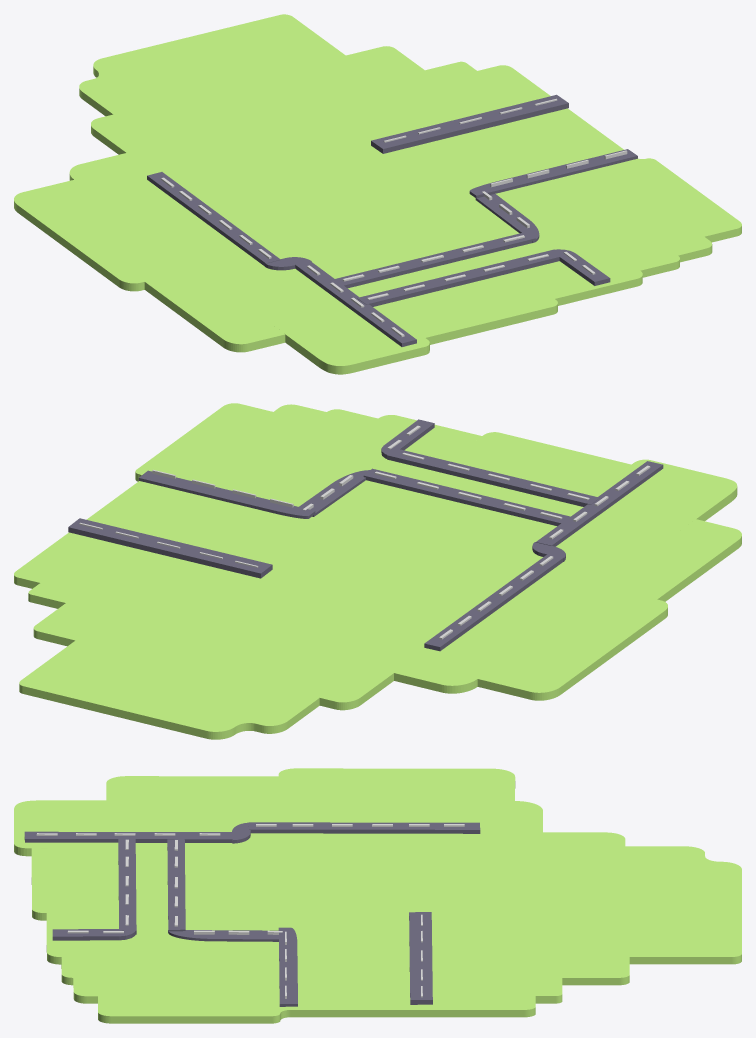
Rendered from scaledgroundroad.glb.
3 renders of one model, top to bottom at view 1: azimuth 30°, elevation 25°; view 2: azimuth 150°, elevation 25°; view 3: azimuth 270°, elevation 25°, orthographic. The views are drawn at different scales.
Visible parts, largest first — view 1: MainGround, ลูกบาศก์.006, ลูกบาศก์.013, ลูกบาศก์.012, ลูกบาศก์.003, ลูกบาศก์.001, ลูกบาศก์.011, ลูกบาศก์.007, ลูกบาศก์.014; view 2: MainGround, ลูกบาศก์.006, ลูกบาศก์.013, ลูกบาศก์.012, ลูกบาศก์.003, ลูกบาศก์.011, ลูกบาศก์.001, ลูกบาศก์.007, ลูกบาศก์.014; view 3: MainGround, ลูกบาศก์.003, ลูกบาศก์.006, ลูกบาศก์.001, ลูกบาศก์.013, ลูกบาศก์.012, ลูกบาศก์.011, ลูกบาศก์.007, ลูกบาศก์.014.
Boxes of the visible parts, <box> form: MainGround: <box>14,14,741,374</box>; ลูกบาศก์.006: <box>371,94,568,153</box>; ลูกบาศก์.013: <box>357,249,563,306</box>; ลูกบาศก์.012: <box>335,232,535,288</box>; ลูกบาศก์.003: <box>147,172,280,266</box>; ลูกบาศก์.001: <box>295,260,416,346</box>; ลูกบาศก์.011: <box>469,149,637,198</box>; ลูกบาศก์.007: <box>475,194,539,242</box>; ลูกบาศก์.014: <box>555,249,610,285</box>; MainGround: <box>14,403,741,739</box>; ลูกบาศก์.006: <box>68,518,272,578</box>; ลูกบาศก์.013: <box>387,448,599,506</box>; ลูกบาศก์.012: <box>363,468,570,526</box>; ลูกบาศก์.003: <box>424,553,564,651</box>; ลูกบาศก์.011: <box>138,470,315,518</box>; ลูกบาศก์.001: <box>536,461,663,546</box>; ลูกบาศก์.007: <box>299,470,369,516</box>; ลูกบาศก์.014: <box>381,419,434,458</box>; MainGround: <box>14,768,741,1023</box>; ลูกบาศก์.003: <box>248,822,480,833</box>; ลูกบาศก์.006: <box>409,912,432,1004</box>; ลูกบาศก์.001: <box>24,831,232,842</box>; ลูกบาศก์.013: <box>118,837,136,934</box>; ลูกบาศก์.012: <box>167,839,185,933</box>; ลูกบาศก์.011: <box>278,927,297,1006</box>; ลูกบาศก์.007: <box>168,930,278,941</box>; ลูกบาศก์.014: <box>52,929,135,940</box>.
Size of the model in its own units: 34.19 by 1.12 by 42.48.
